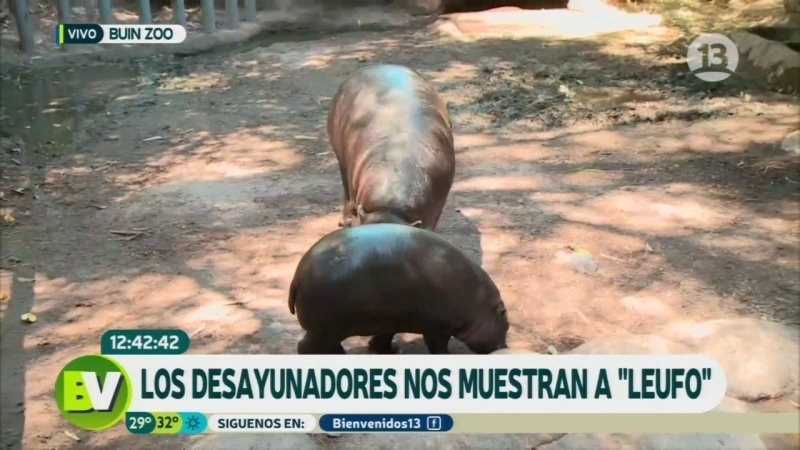hipopotamo: (265, 217, 547, 354), (317, 57, 475, 243)
